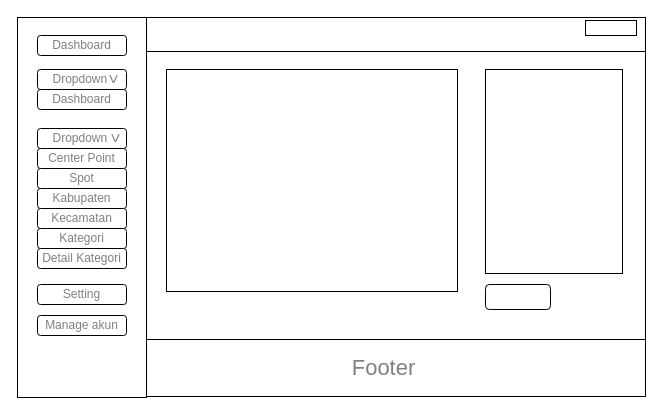
The diagram is 663 pixels wide and 415 high, and some of its shapes have lost their labels. The shapes that lost their labels are listed below. From the top down, each one's centre as x and y in pixels, then its label:
point (610, 28): Role
point (312, 180): Maps
point (553, 171): Form Input
point (517, 297): Simpan
